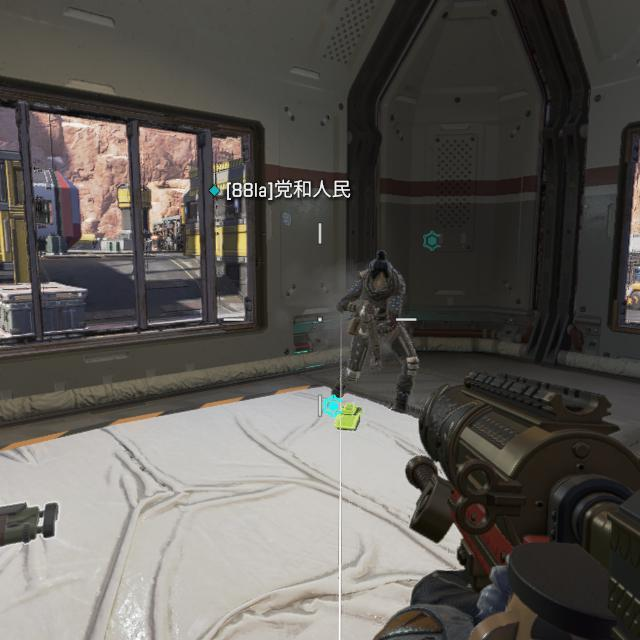avatar: (336, 249, 421, 415)
